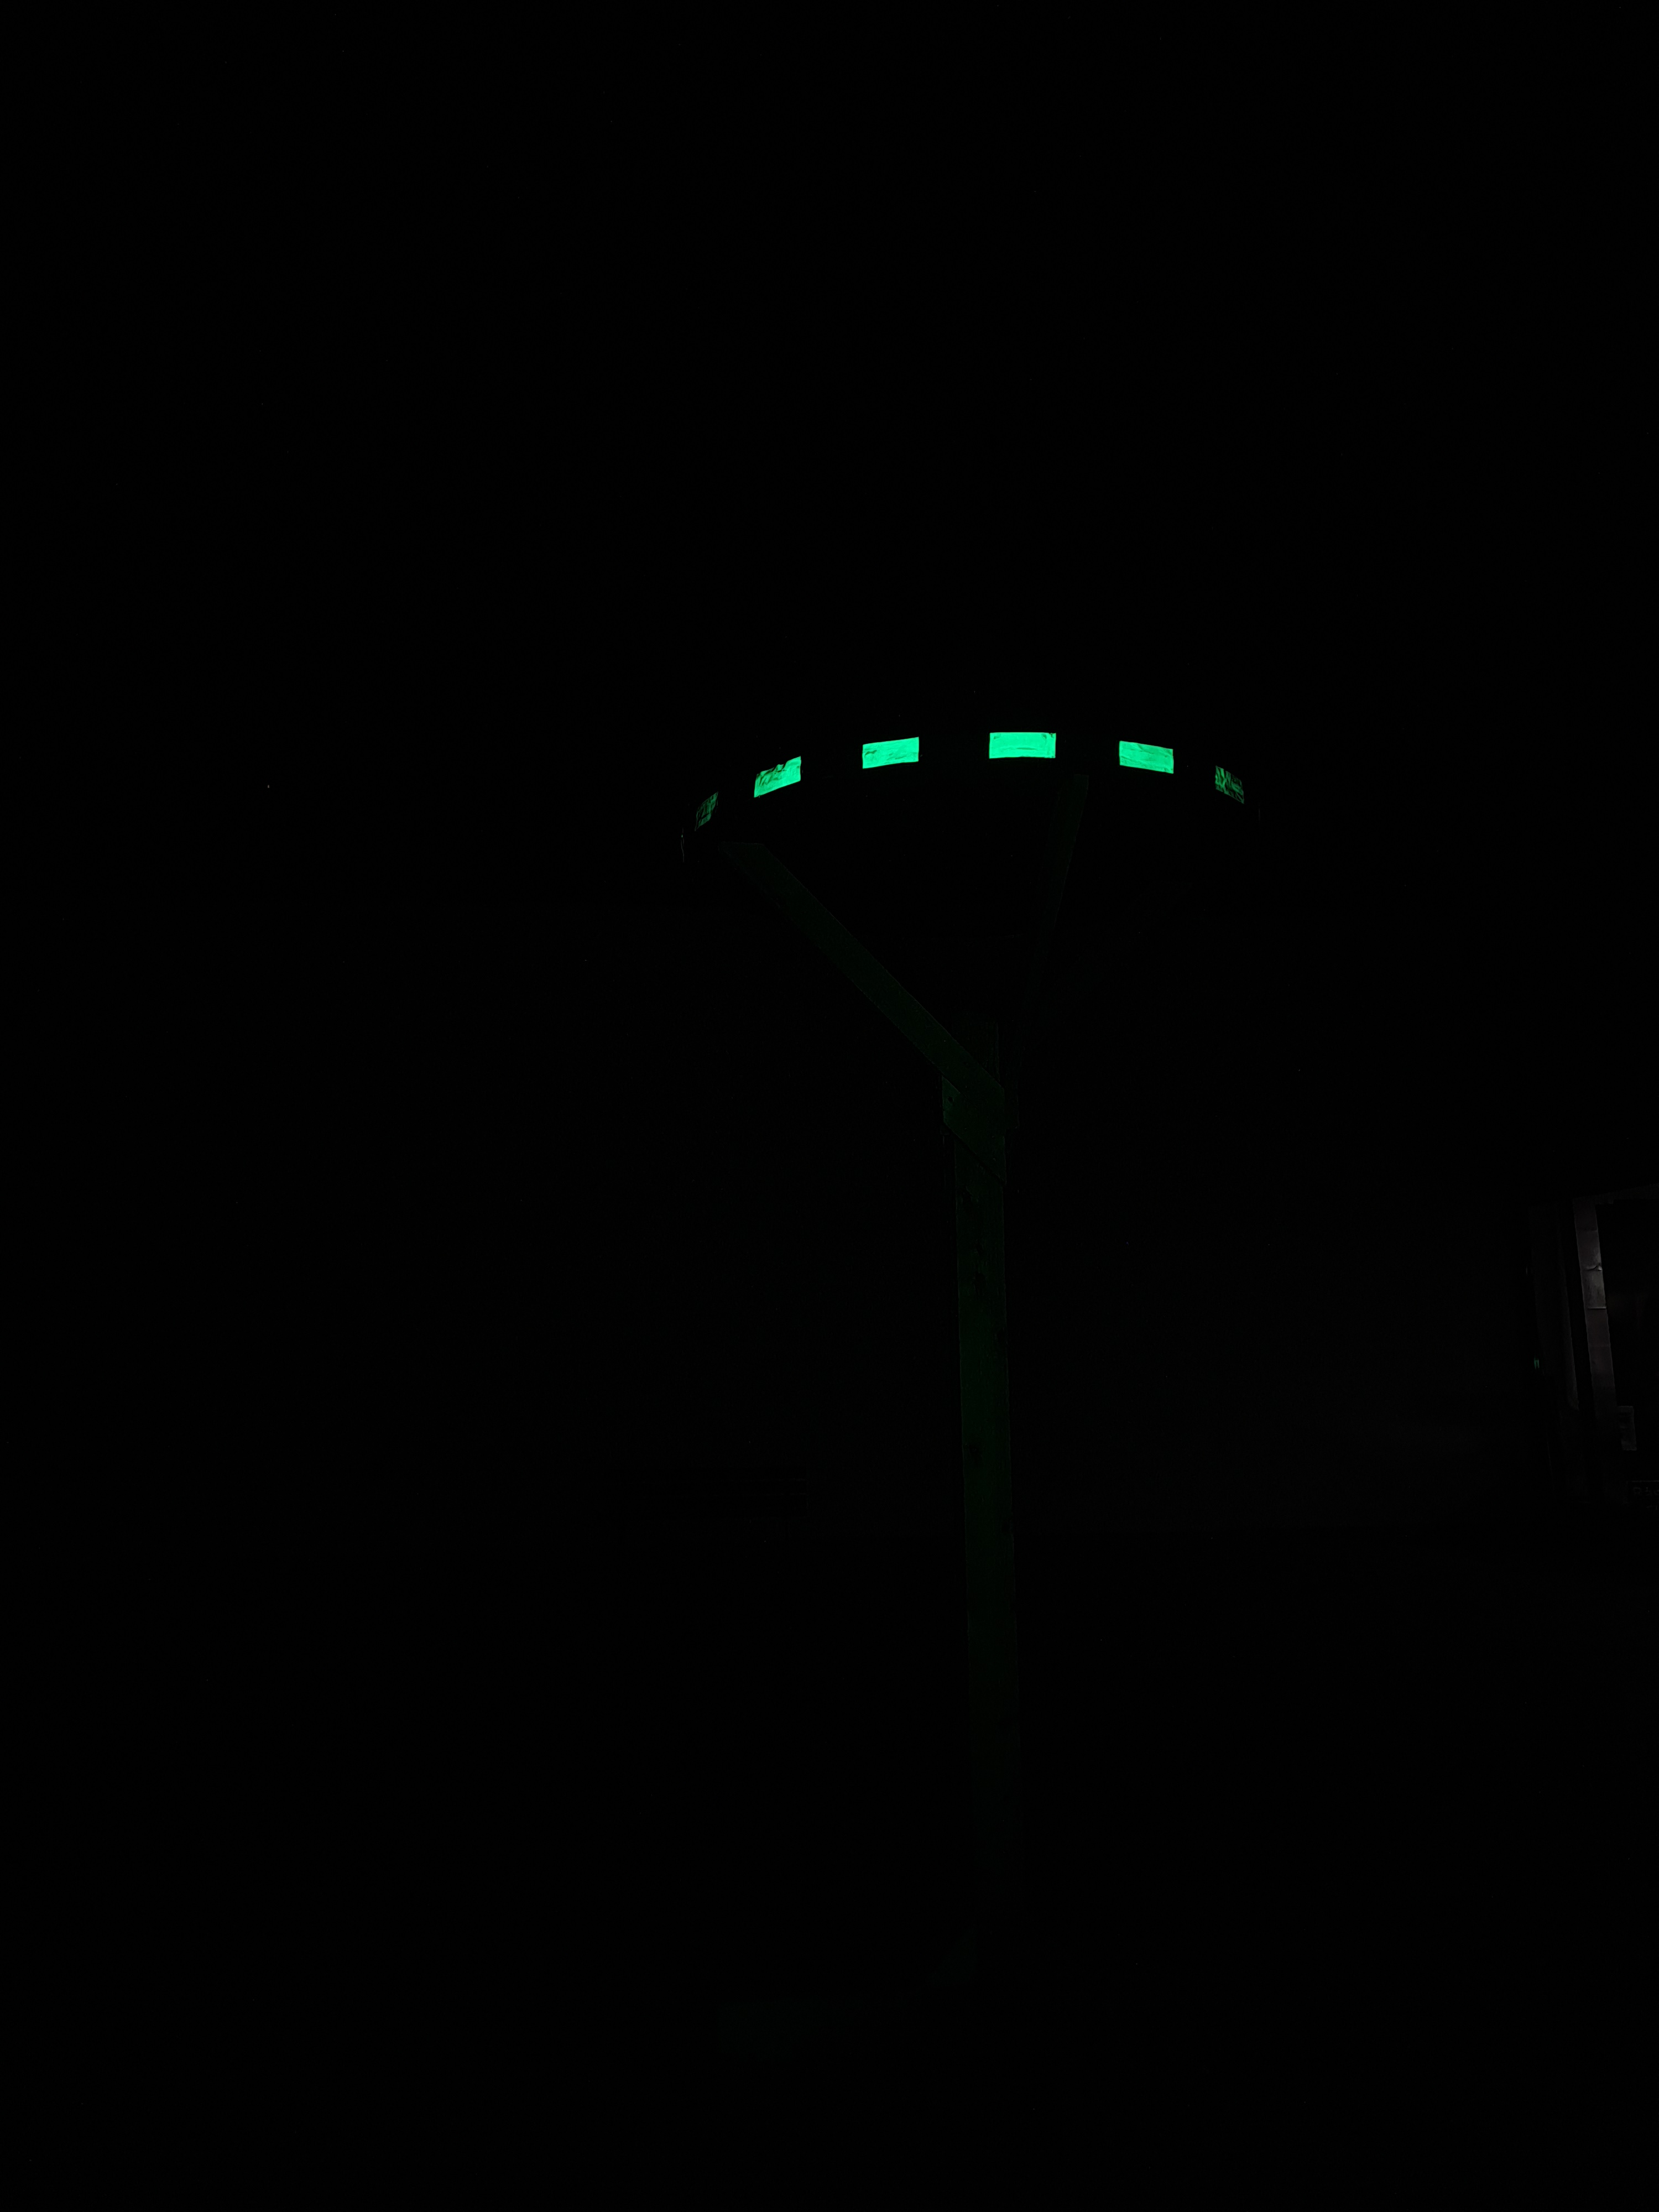hoop: (742, 723, 1251, 812)
